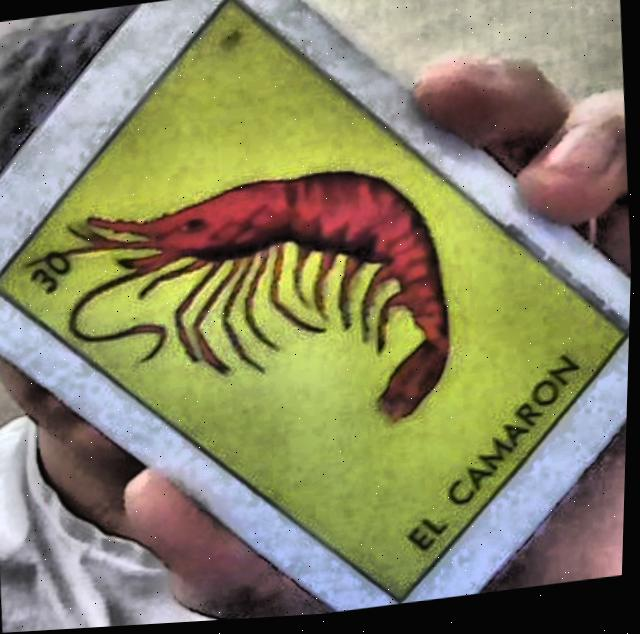El Camaron: (0, 8, 631, 603)
